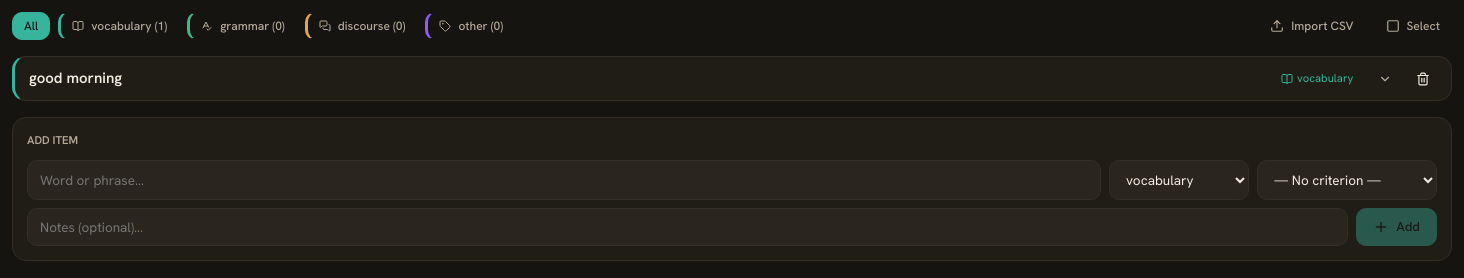
Test case: VocabularyListEditor › toggles selection by clicking the card in selection mode
Click the button "Select" at (1413, 26), box [1374,12,1452,40]
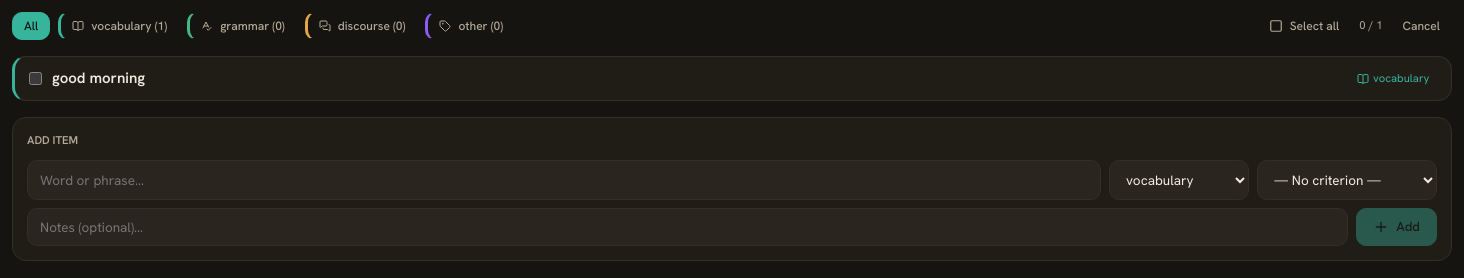
Click the element showing "good morning vocabulary" at (732, 79), box [12,56,1452,101]
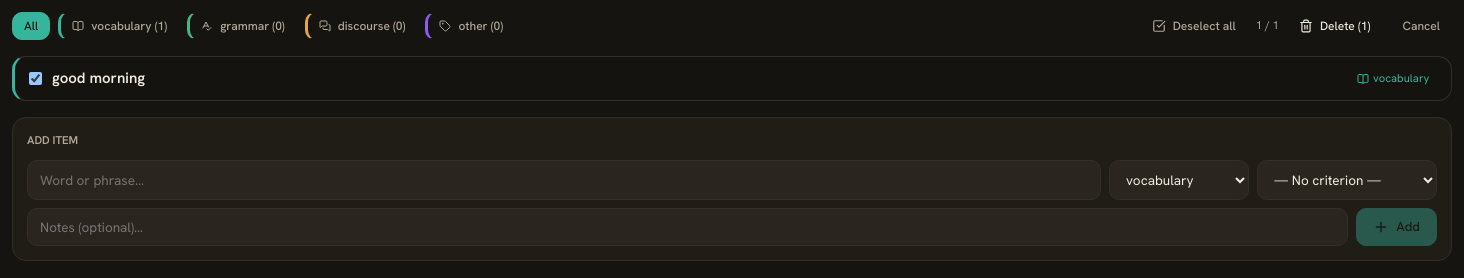
Check: the text "1 / 1" is shown, box [1256,17,1279,35]
